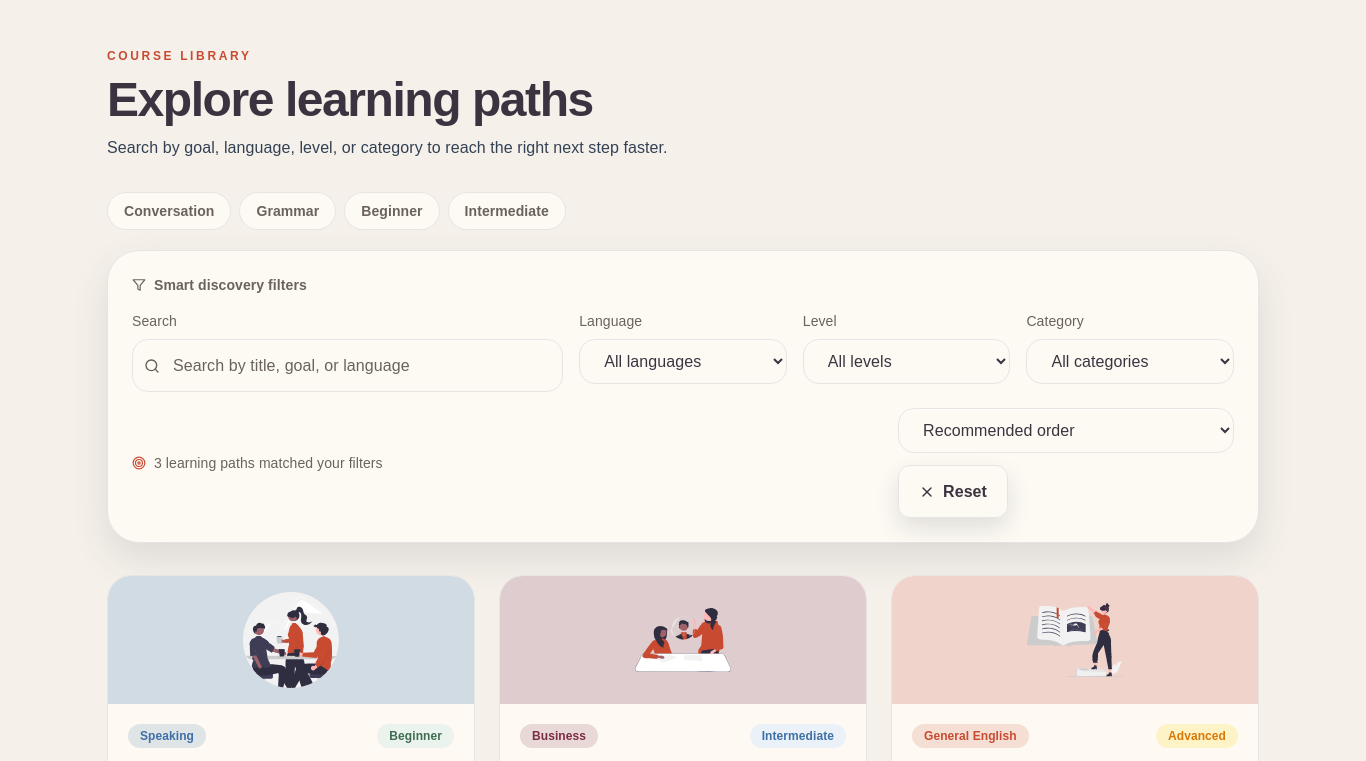
Courses browse/filter page › shows the real empty state, not a blank area, when no course matches the filters
The image size is (1366, 761).
Step 1. Type "Nonexistent Course Query" into the field labelled "Search" → (348, 366), box top-left (132, 339), bottom-right (563, 392)
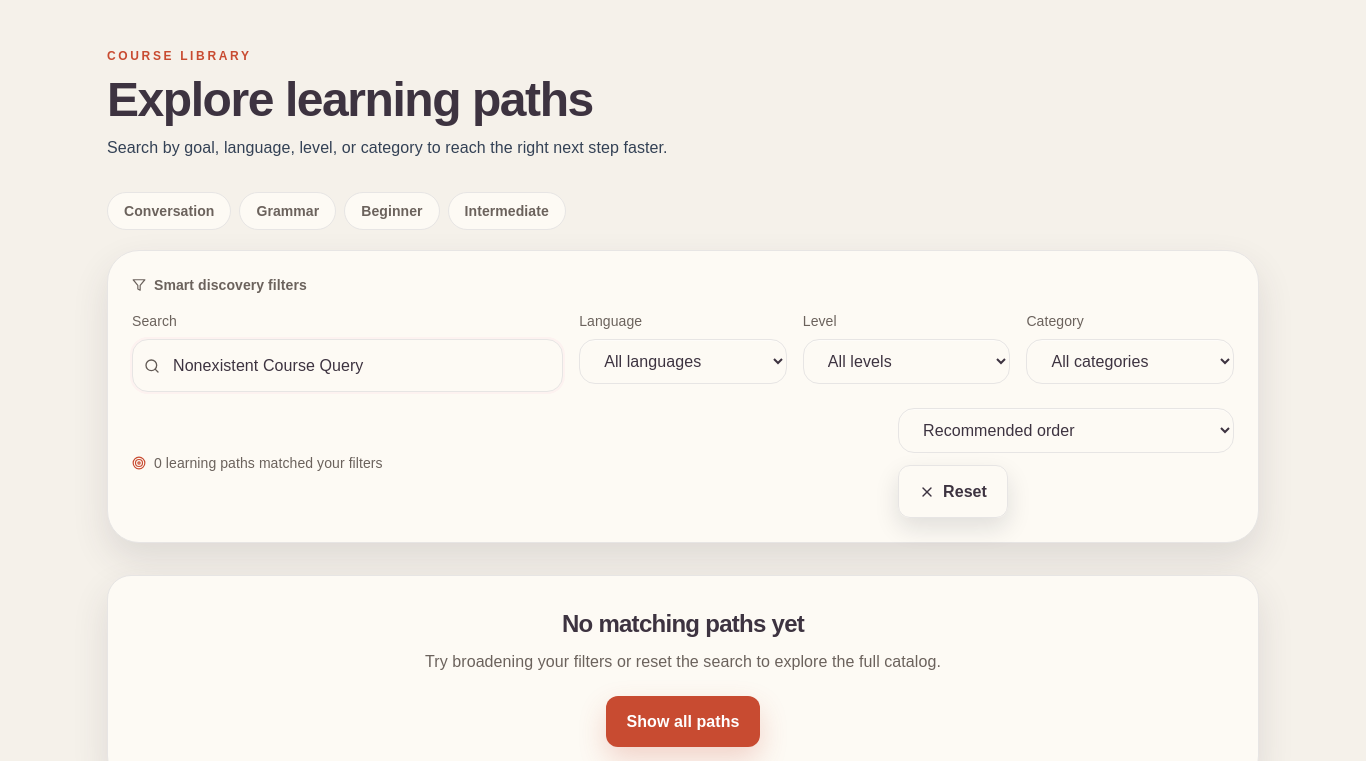
Check: the heading "No matching paths yet" is shown, box top-left (562, 610), bottom-right (804, 637)
Check: the text "broadening your filters" is shown, box top-left (425, 653), bottom-right (941, 670)
// Resetting from the empty state should bring every course back.
Step 2. Click the button "Show all paths" → (683, 721), box top-left (606, 696), bottom-right (760, 747)
(page scrolled)
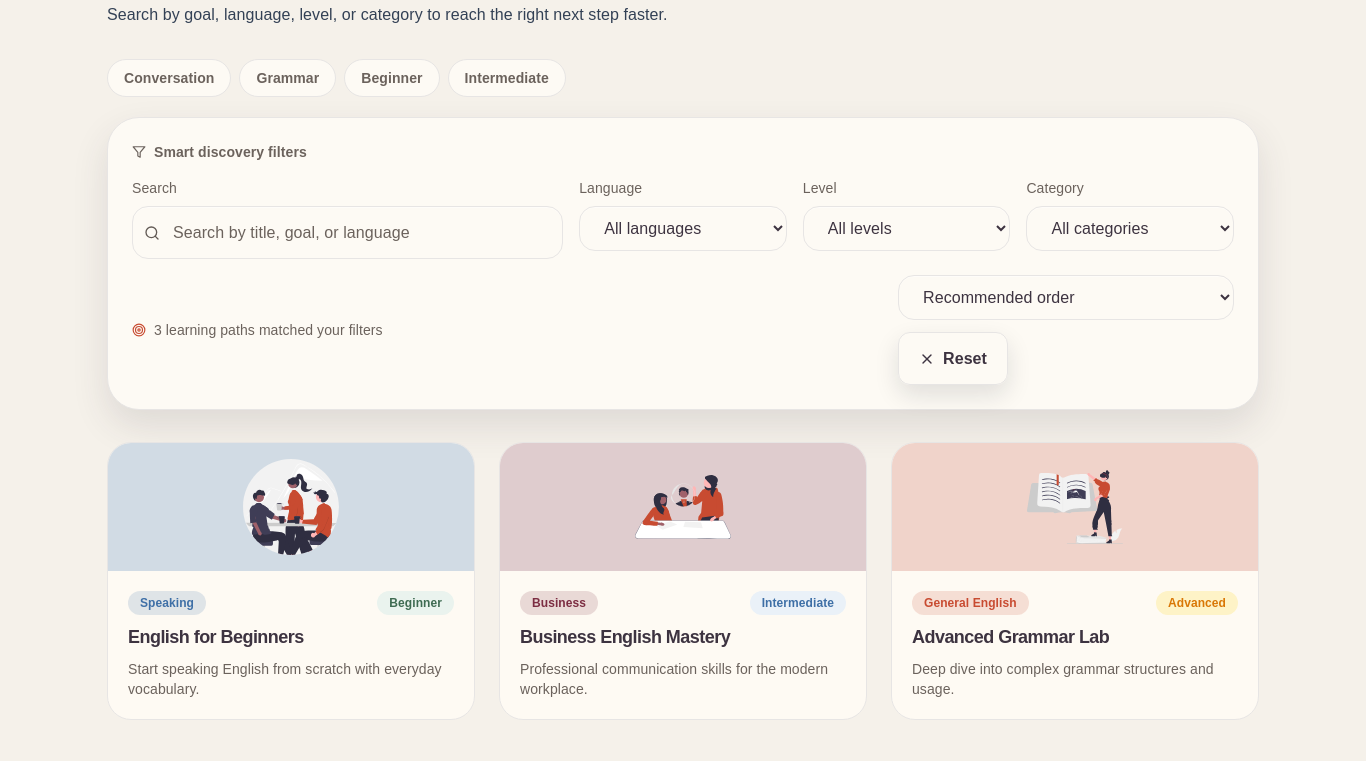
Check: the heading "English for Beginners" is shown, box top-left (128, 627), bottom-right (304, 647)
Check: the heading "Business English Mastery" is shown, box top-left (520, 627), bottom-right (730, 647)
Check: the heading "Advanced Grammar Lab" is shown, box top-left (912, 627), bottom-right (1109, 647)
